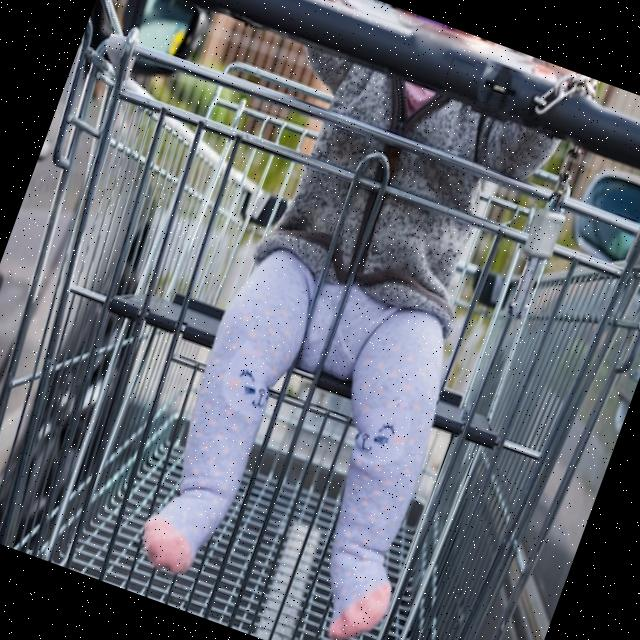Person: (90, 0, 616, 640)
